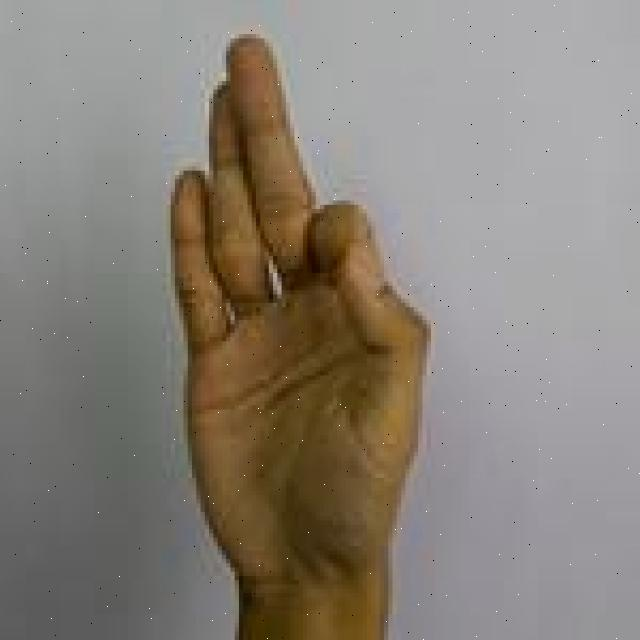F: (172, 32, 436, 640)
